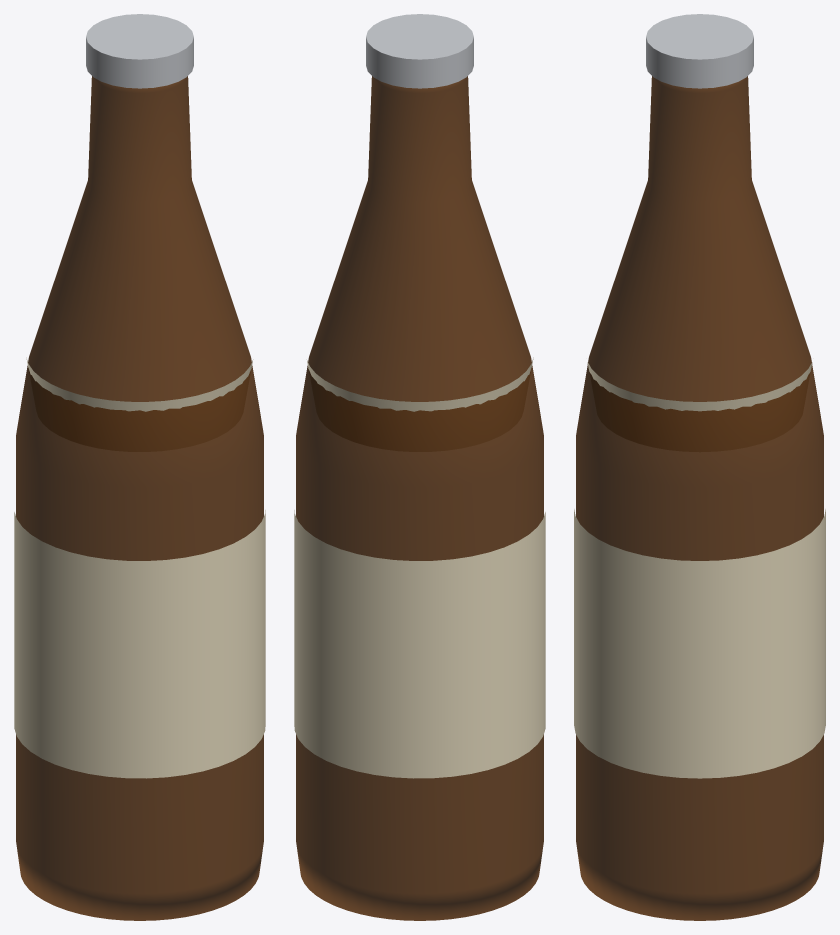
File: cerveja.glb
3 views of the same model, side by side, from view 1: azimuth 30°, elevation 25°; view 2: azimuth 150°, elevation 25°; view 3: azimuth 270°, elevation 25° (orthographic).
Visible parts, largest first — view 1: cerveja; view 2: cerveja; view 3: cerveja.
Part boxes in pixels (x1,y1,x2,y2): cerveja: (14,14,265,920); cerveja: (294,14,545,920); cerveja: (574,14,825,920).
Size of the model in its own units: 0.063 by 0.23 by 0.063.
